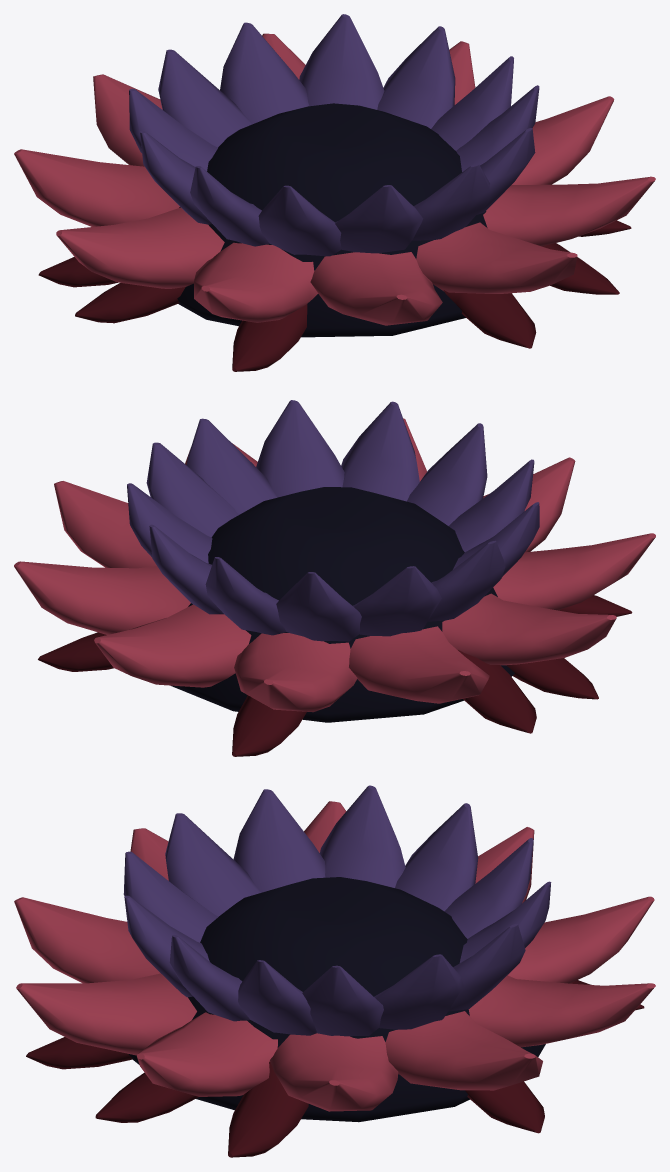
Rendered from AlienFlower_Lg.FBX.
3 renders of one model, top to bottom at view 1: azimuth 30°, elevation 25°; view 2: azimuth 150°, elevation 25°; view 3: azimuth 270°, elevation 25°, orthographic. The views are drawn at different scales.
Visible parts, largest first — view 1: petallarge002, petalmedium003, AlienCoral_BushInner002, petalunder002; view 2: petallarge002, petalmedium003, AlienCoral_BushInner002, petalunder002; view 3: petallarge002, petalmedium003, AlienCoral_BushInner002, petalunder002.
Part boxes in pixels (x1,y1,x2,y2): petallarge002: (14,33,655,325); petalmedium003: (129,14,539,256); AlienCoral_BushInner002: (177,103,487,337); petalunder002: (38,220,631,371); petallarge002: (14,418,655,712); petalmedium003: (127,400,539,641); AlienCoral_BushInner002: (171,487,514,722); petalunder002: (38,595,632,756); petallarge002: (14,801,655,1111); petalmedium003: (123,785,551,1036); AlienCoral_BushInner002: (129,877,545,1122); petalunder002: (26,980,644,1157).
Size of the model in its own units: 99.88 by 26.54 by 95.35.
